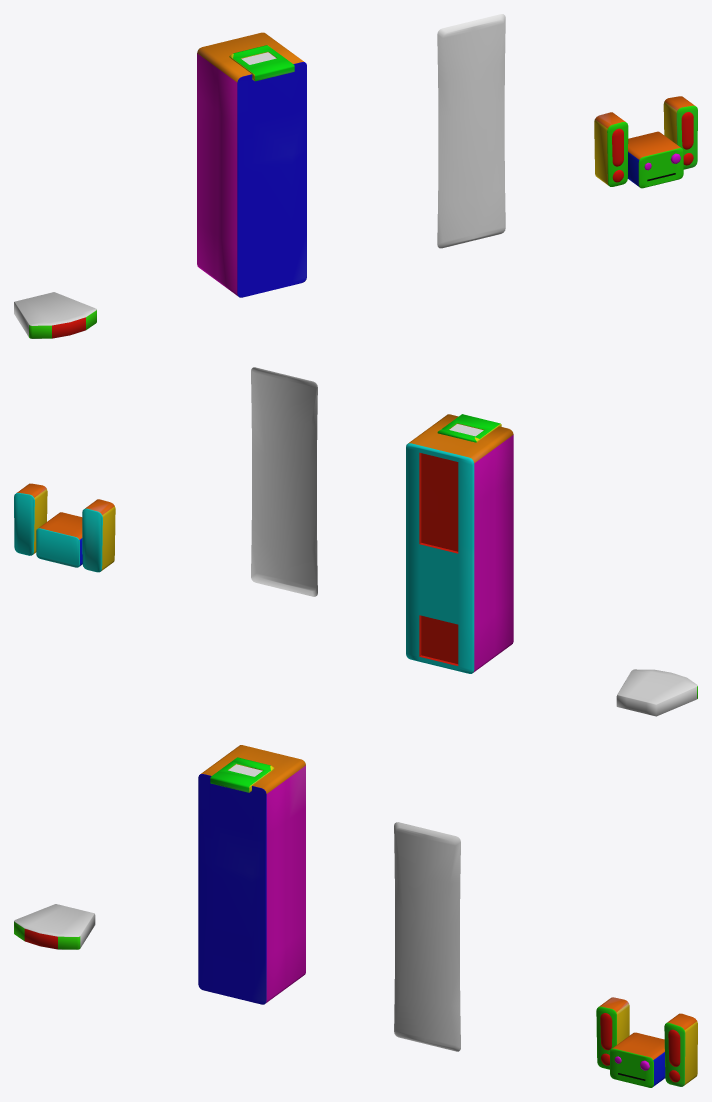
Rendered from Music_radio.fbx.
3 renders of one model, top to bottom at view 1: azimuth 30°, elevation 25°; view 2: azimuth 150°, elevation 25°; view 3: azimuth 330°, elevation 25°, orthographic. The views are drawn at different scales.
Parts seen in each view (by area): view 1: Mega_HiFi, Mega_HiFi_face, HiFi_young, HiFi; view 2: Mega_HiFi, Mega_HiFi_face, HiFi_young, HiFi; view 3: Mega_HiFi, Mega_HiFi_face, HiFi_young, HiFi.
Part boxes in pixels (bbox=[...]): Mega_HiFi: bbox=[197, 32, 306, 297]; Mega_HiFi_face: bbox=[437, 14, 505, 248]; HiFi_young: bbox=[594, 96, 697, 188]; HiFi: bbox=[14, 292, 96, 338]; Mega_HiFi: bbox=[406, 414, 513, 673]; Mega_HiFi_face: bbox=[251, 367, 317, 596]; HiFi_young: bbox=[14, 483, 115, 572]; HiFi: bbox=[616, 669, 697, 716]; Mega_HiFi: bbox=[198, 745, 305, 1004]; Mega_HiFi_face: bbox=[394, 822, 460, 1051]; HiFi_young: bbox=[596, 997, 697, 1087]; HiFi: bbox=[14, 904, 95, 949].
Bounding box in the file's own units: 340 × 108 × 39.04.
